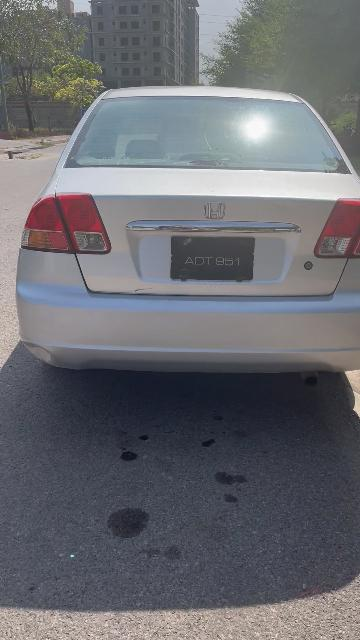plate: (172, 236, 255, 278)
